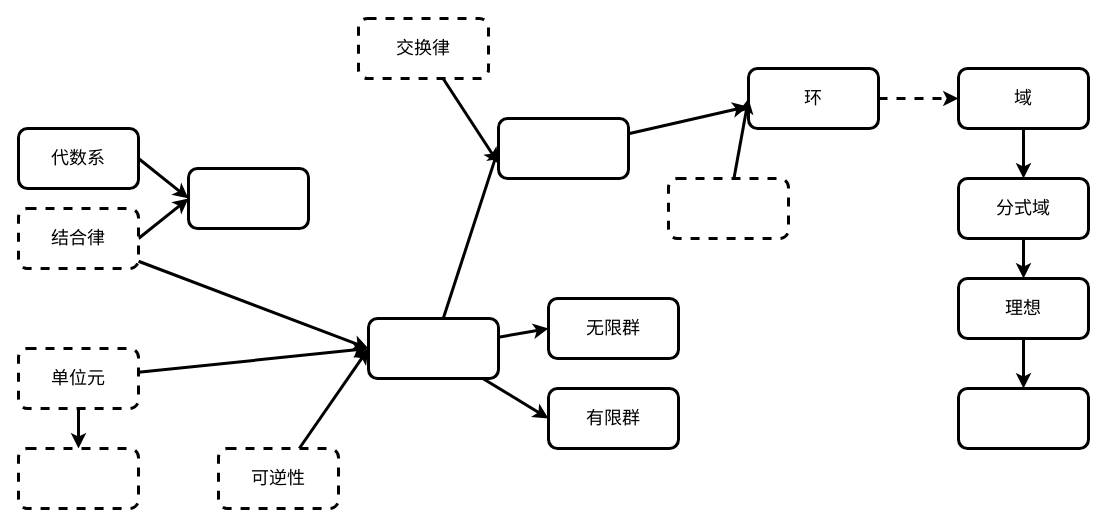
Some shapes in this 1107 by 527 pixel diagram are drawn without their labels. Each missing label, with the centre of its shape:
"交换群 （阿贝尔群）" belongs at [563,148].
"分配律" belongs at [728,208].
"半群" belongs at [248,198].
"可逆元" belongs at [78,478].
"商环" belongs at [1023,418].
"群 （乘群/加群）" belongs at [433,348].
